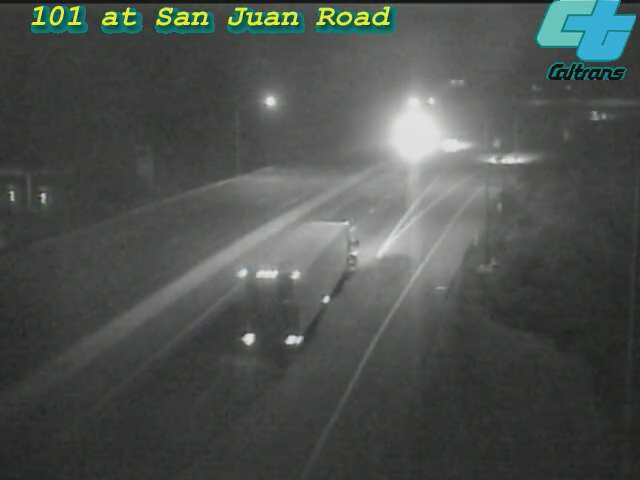vehicle: (264, 243, 344, 323), (392, 107, 442, 157), (573, 90, 623, 140), (431, 119, 481, 169), (477, 133, 527, 183)
